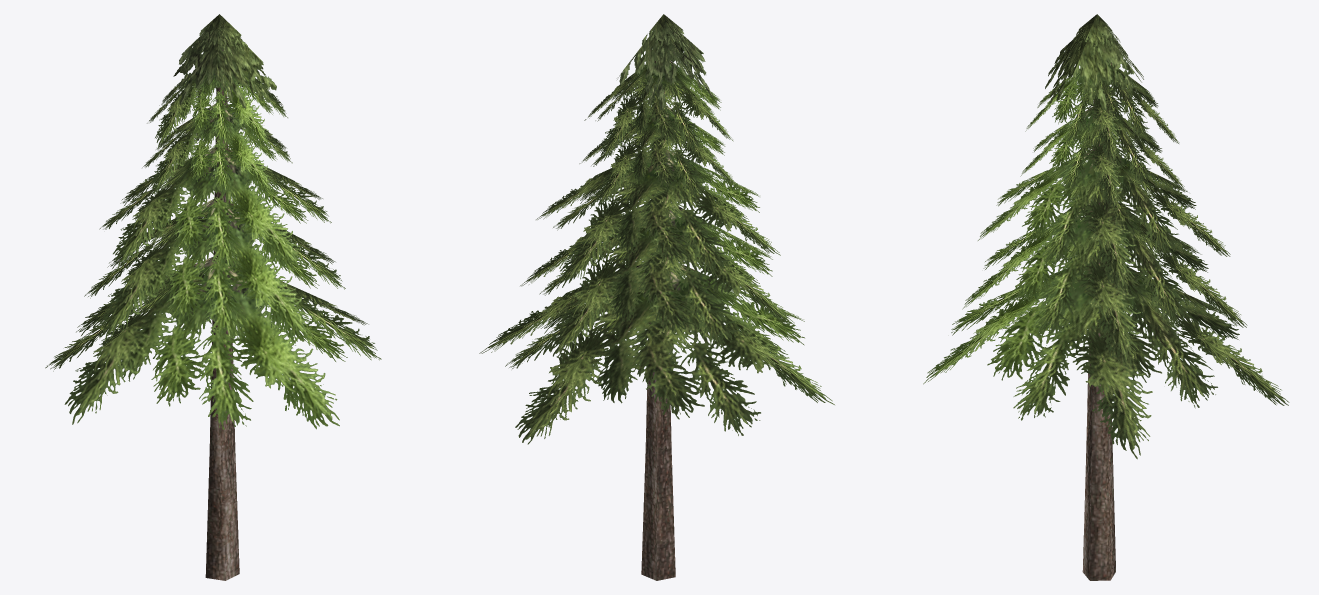
File: tree.fbx
3 views of the same model, side by side, from view 1: azimuth 30°, elevation 25°; view 2: azimuth 150°, elevation 25°; view 3: azimuth 270°, elevation 25° (orthographic).
Parts seen in each view (by area): view 1: mws_02; view 2: mws_02; view 3: mws_02.
Part boxes in pixels (bbox=[...]): mws_02: bbox=[45, 14, 381, 580]; mws_02: bbox=[479, 14, 834, 580]; mws_02: bbox=[923, 14, 1289, 580].
Bounding box in the file's own units: 5.44 × 7.54 × 5.02.
Materials: 1 (1 with a texture image).
